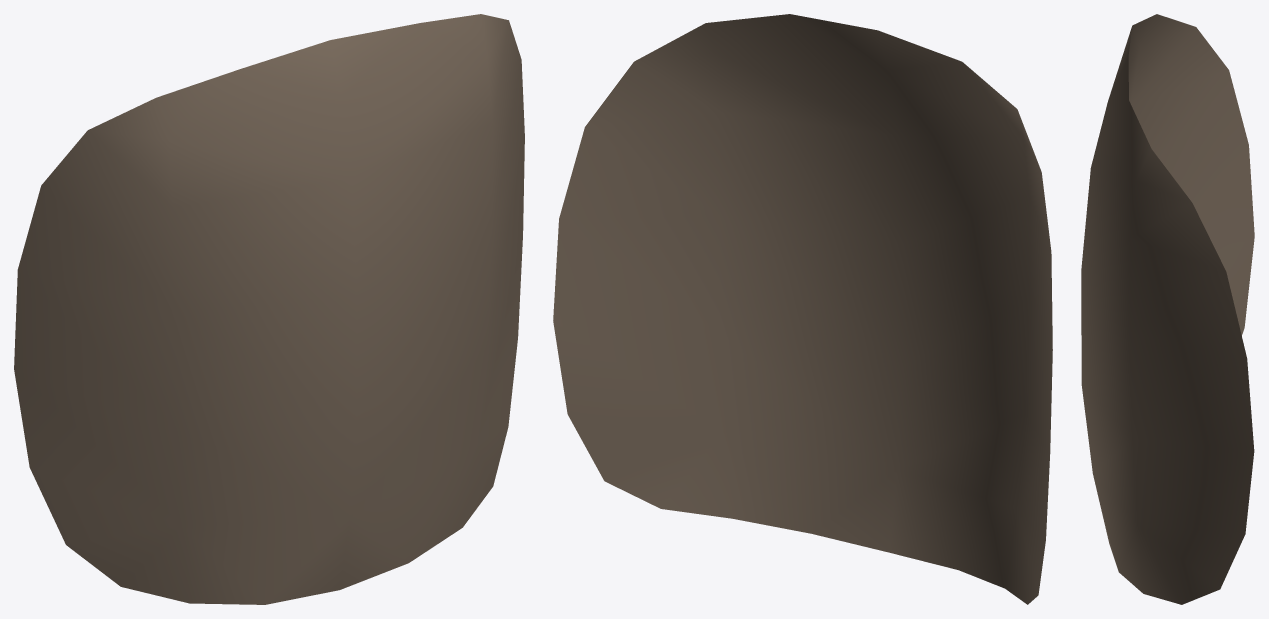
File: MD_nail_FootR.Index.fbx
3 views of the same model, side by side, from view 1: azimuth 30°, elevation 25°; view 2: azimuth 150°, elevation 25°; view 3: azimuth 270°, elevation 25° (orthographic). The views are drawn at different scales.
Parts seen in each view (by area): view 1: MD_nail_FootR.Index; view 2: MD_nail_FootR.Index; view 3: MD_nail_FootR.Index.
Part boxes in pixels (x1,y1,x2,y2): MD_nail_FootR.Index: (14, 14, 524, 604); MD_nail_FootR.Index: (553, 14, 1052, 604); MD_nail_FootR.Index: (1081, 14, 1254, 604).
Bounding box in the file's own units: 0.7623 × 0.7758 × 0.2498.
